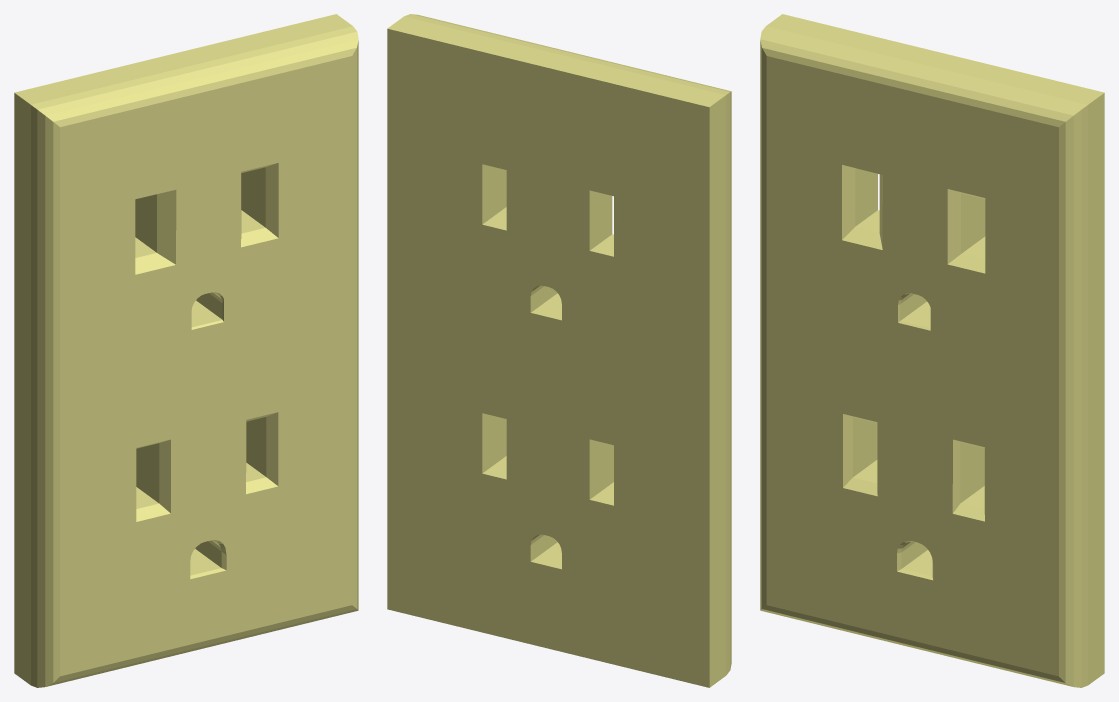
The model's file is SOCKET.fbx.
3 views of the same model, side by side, from view 1: azimuth 30°, elevation 25°; view 2: azimuth 150°, elevation 25°; view 3: azimuth 330°, elevation 25° (orthographic).
Parts seen in each view (by area): view 1: Cube; view 2: Cube; view 3: Cube.
Boxes of the visible parts, bbox=[...] form: Cube: bbox=[14, 14, 358, 687]; Cube: bbox=[387, 14, 731, 687]; Cube: bbox=[760, 14, 1104, 687].
Size of the model in its own units: 200 by 344 by 33.1.
